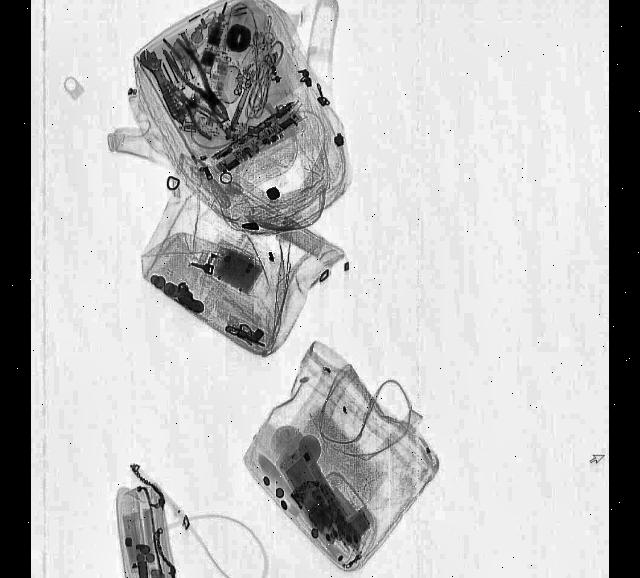Pliers: (160, 30, 238, 130), (160, 68, 230, 146)
Wrench: (139, 44, 189, 127)
